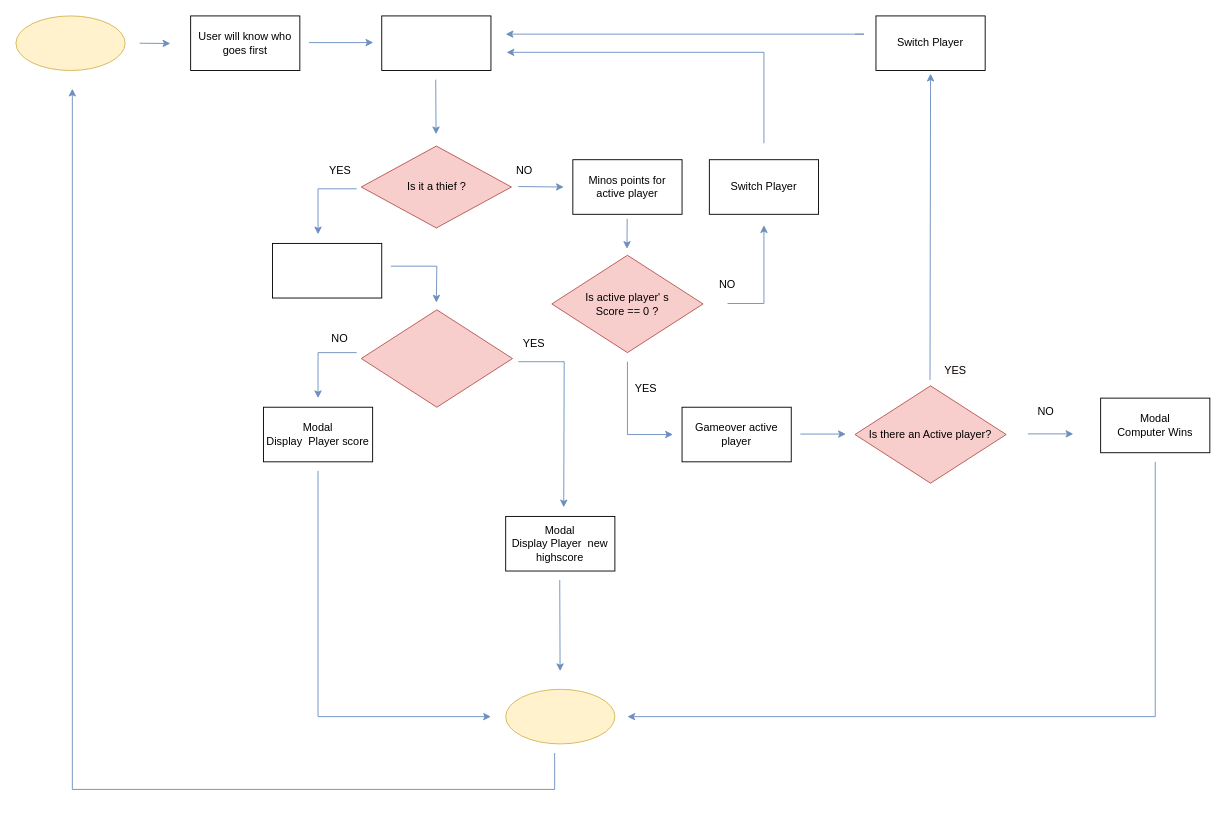
The diagram is 1226 pixels wide and 813 high, and some of its shapes have lost their labels. The centre of each missing label's shape, as x and y in pixels:
Is the Score == Highscore ?: [436,358]
Player wins: [327,270]
Start: [70,43]
User choose card: [436,43]
X button: [560,716]
